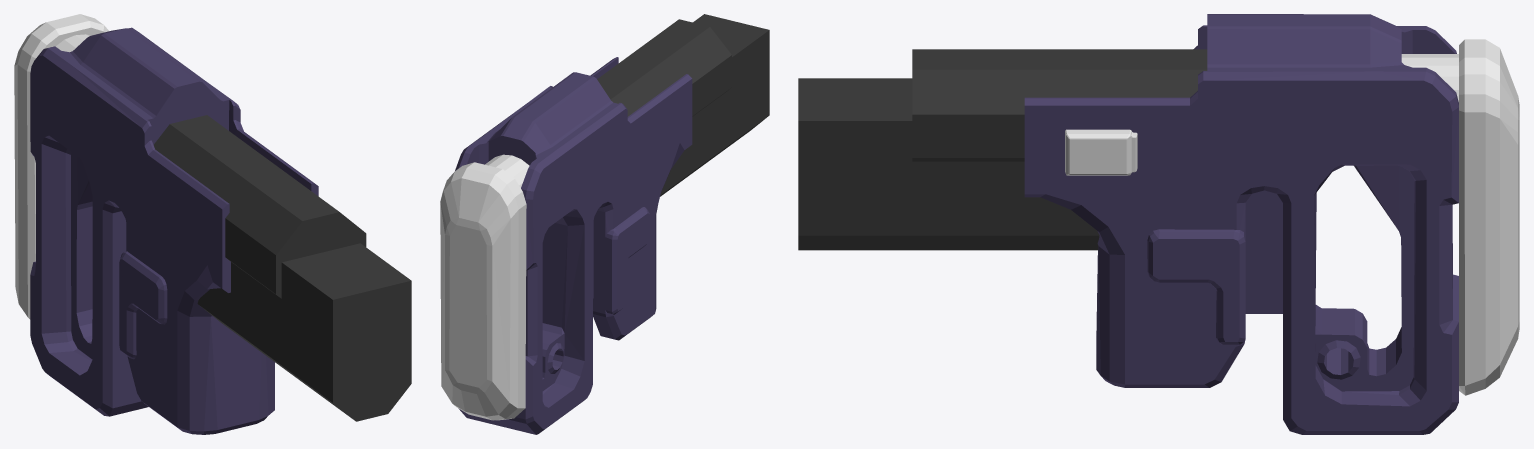
Rendered from butt2.fbx.
3 renders of one model, left to right at view 1: azimuth 30°, elevation 25°; view 2: azimuth 150°, elevation 25°; view 3: azimuth 270°, elevation 25°, orthographic. The views are drawn at different scales.
Visible parts, largest first — view 1: butt2; view 2: butt2; view 3: butt2.
Part boxes in pixels (bbox=[...]): butt2: bbox=[14, 14, 411, 434]; butt2: bbox=[440, 14, 769, 434]; butt2: bbox=[798, 14, 1519, 434].
Size of the model in its own units: 0.0932 by 0.2786 by 0.4644.
